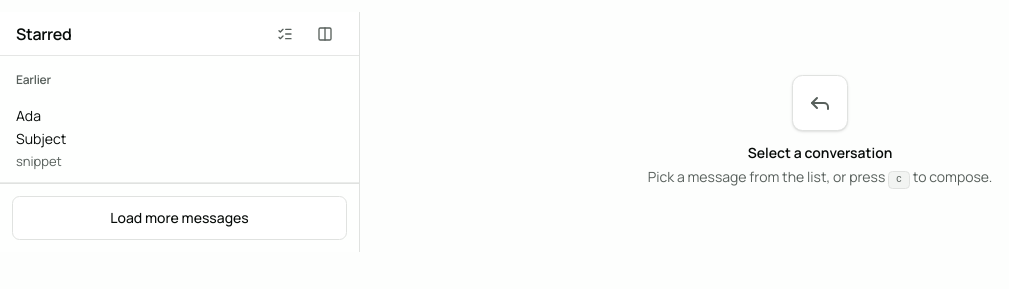
Test: MailFolderRouteScreen — pagination › loads the next page of a starred folder and appends the results
Click the button "Load more messages". click: [180, 218]
box: [12,196,347,240]
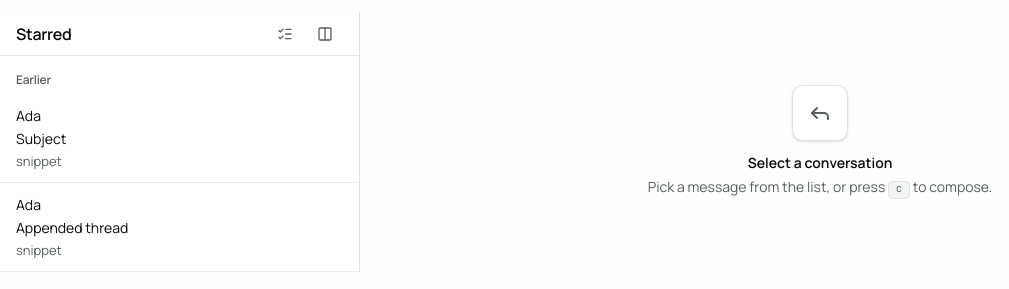
Check: the text "Appended thread" is shown, box [16,218,128,237]
Check: the button "Load more" is gone
